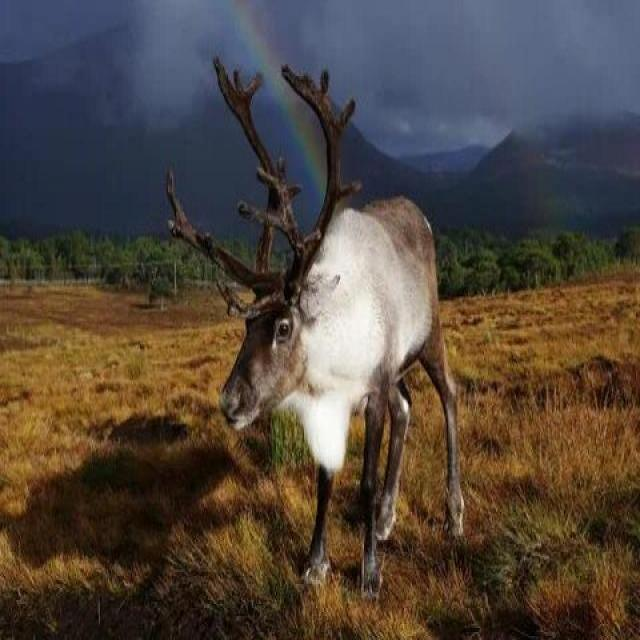deer: (205, 128, 518, 563)
